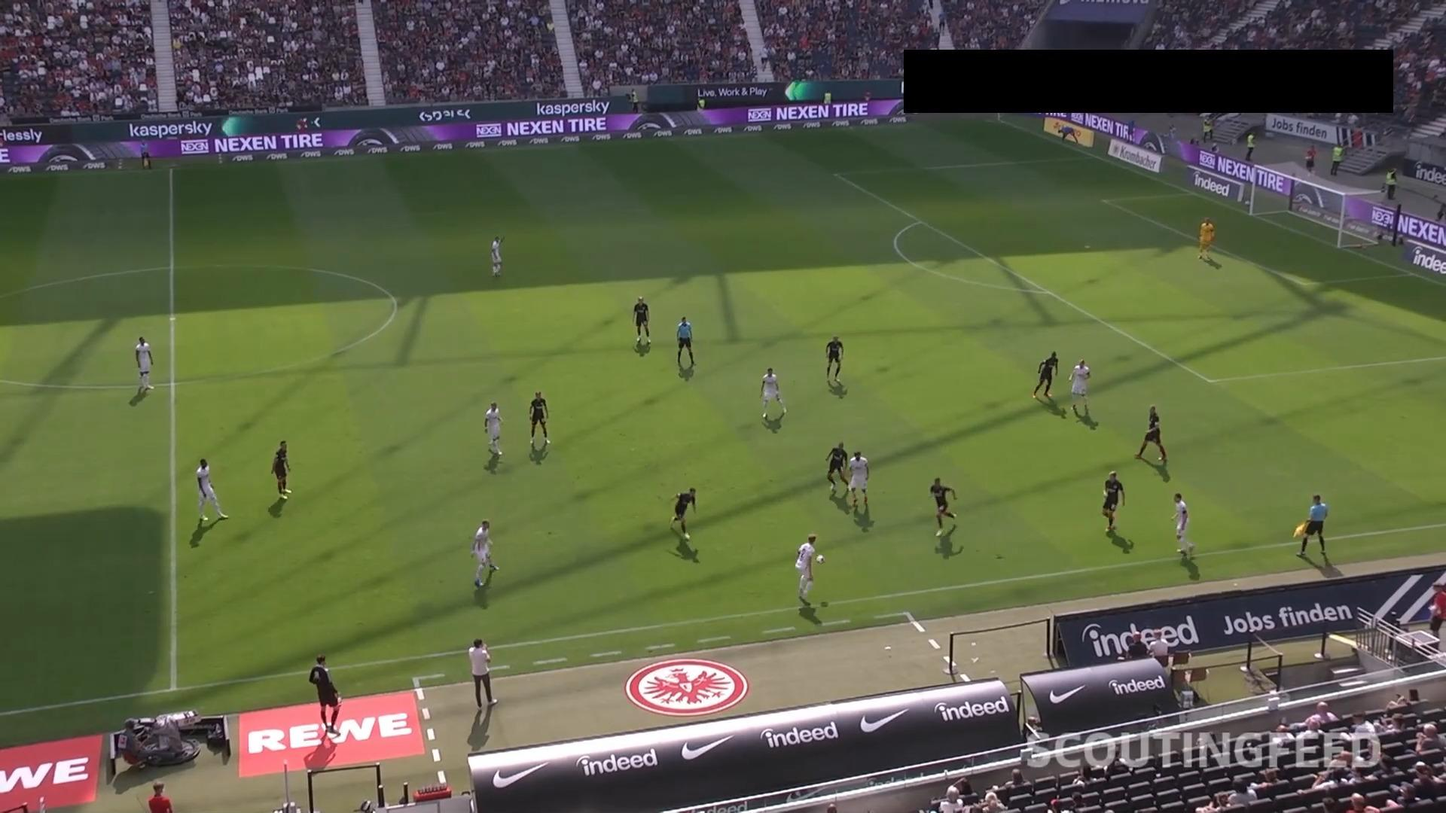ball: (816, 553, 826, 566)
goalkeeper: (1197, 215, 1217, 261)
player: (192, 455, 229, 523), (1131, 402, 1168, 465), (470, 518, 501, 590), (1100, 469, 1130, 536), (926, 477, 956, 538), (1170, 492, 1197, 558), (668, 485, 698, 544), (795, 531, 815, 609), (847, 451, 873, 510), (760, 366, 787, 422), (526, 389, 551, 448), (1032, 349, 1060, 401), (1068, 358, 1091, 419), (133, 336, 157, 394), (824, 441, 850, 493), (272, 440, 293, 504), (484, 401, 503, 458), (632, 296, 652, 346), (824, 333, 843, 385), (492, 235, 508, 279)
referee: (1294, 494, 1330, 559), (674, 313, 697, 369), (139, 139, 151, 170)
